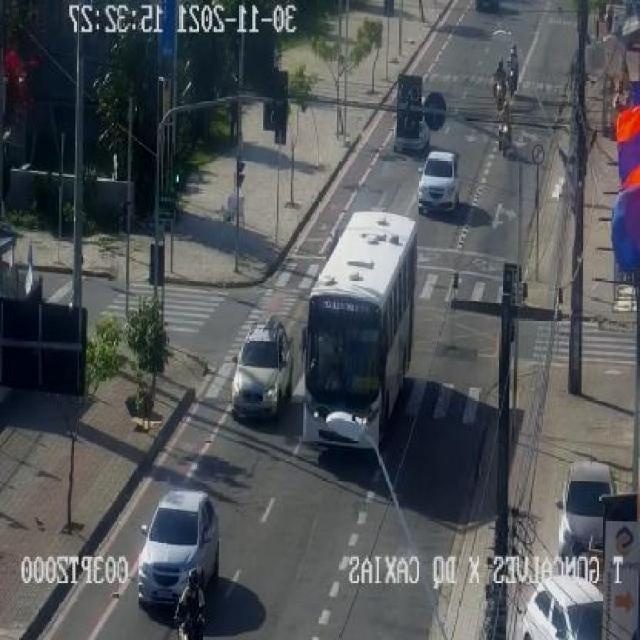Bus: (300, 210, 414, 453)
Car: (136, 489, 220, 609), (231, 317, 292, 420), (524, 571, 605, 640), (560, 461, 614, 556), (417, 152, 459, 212), (395, 115, 430, 154)
Cycle: (170, 610, 208, 640), (494, 116, 512, 156), (491, 72, 508, 110), (508, 61, 518, 97)
